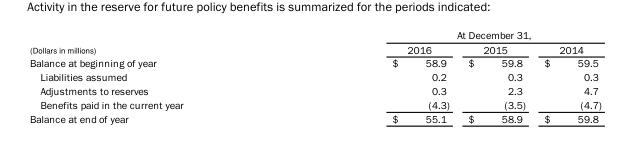table: (29, 28, 600, 124)
table column: (29, 28, 287, 124), (287, 28, 458, 124), (458, 28, 534, 124), (534, 28, 600, 124)
table column header: (29, 28, 600, 55)
table row: (29, 28, 600, 42), (29, 55, 600, 69), (29, 69, 600, 83), (29, 83, 600, 97), (29, 97, 600, 111), (29, 42, 600, 55), (29, 111, 600, 124)
table spanning cell: (29, 28, 287, 55), (287, 28, 600, 42)
